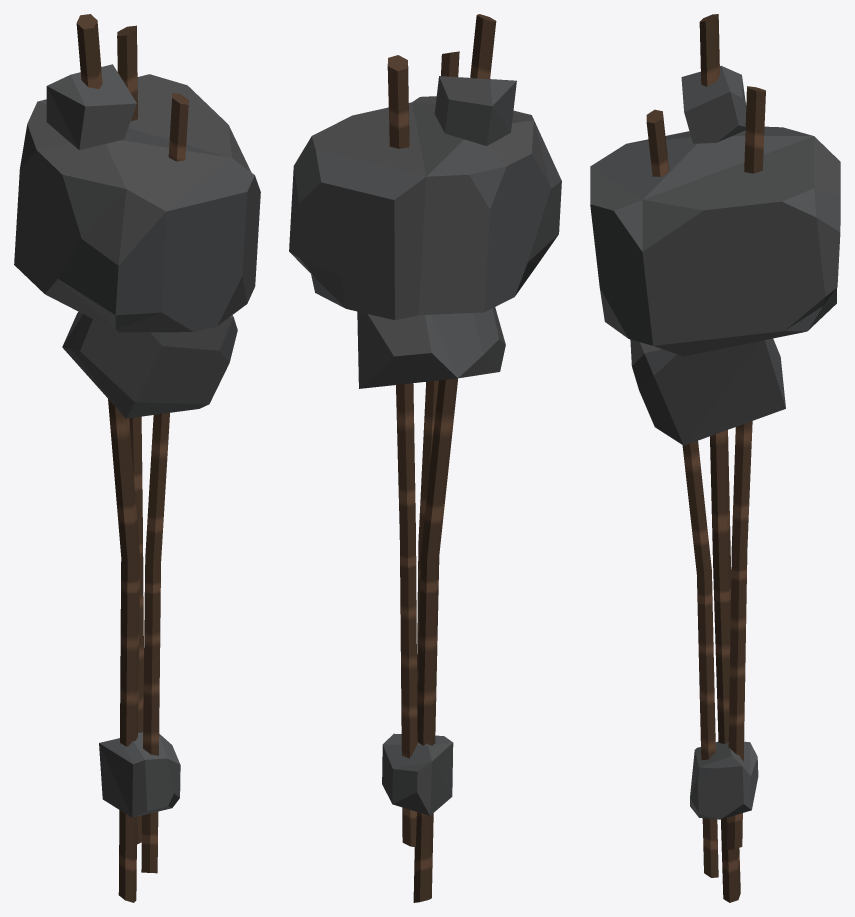
Rendered from SM_Prop_RebarClub_01.fbx.
The picture shows the model from 3 angles, left to right: view 1: azimuth 30°, elevation 25°; view 2: azimuth 150°, elevation 25°; view 3: azimuth 270°, elevation 25°; orthographic projection. The views are drawn at different scales.
Parts seen in each view (by area): view 1: SM_Prop_RebarClub_01; view 2: SM_Prop_RebarClub_01; view 3: SM_Prop_RebarClub_01.
Part boxes in pixels (x1,y1,x2,y2): SM_Prop_RebarClub_01: [14, 14, 260, 902]; SM_Prop_RebarClub_01: [289, 14, 561, 902]; SM_Prop_RebarClub_01: [590, 14, 840, 902].
Size of the model in its own units: 35.69 by 177 by 46.77.
